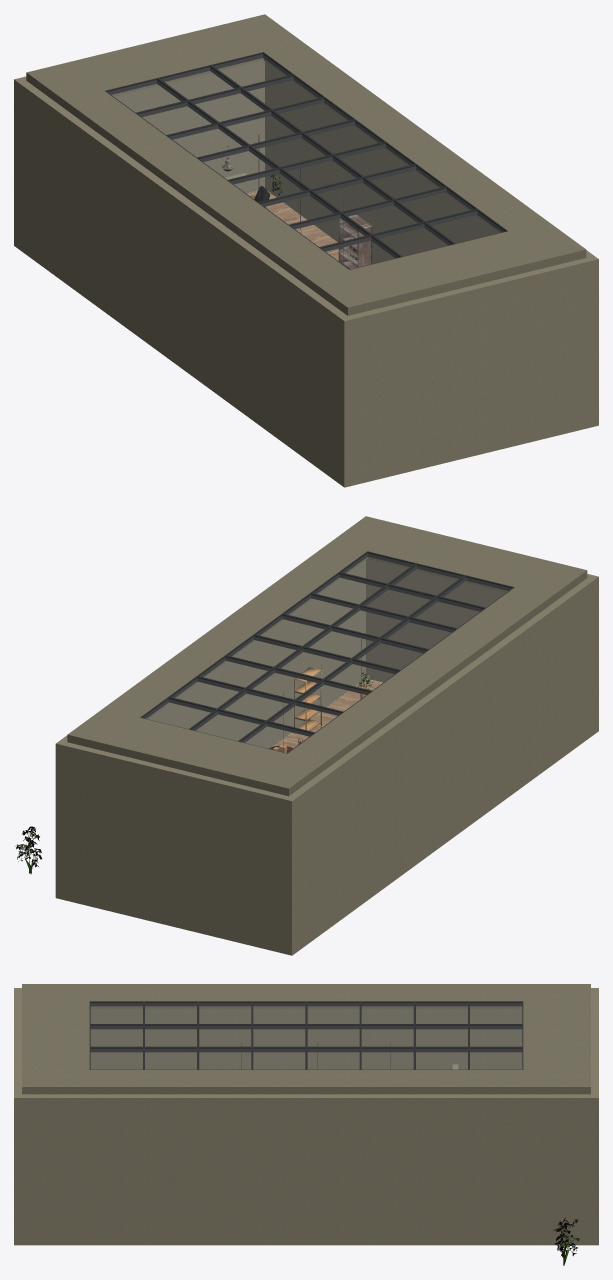
File: atelier.glb
3 views of the same model, one above another, from view 1: azimuth 30°, elevation 25°; view 2: azimuth 150°, elevation 25°; view 3: azimuth 270°, elevation 25° (orthographic). The views are drawn at different scales.
Parts seen in each view (by area): view 1: room_walls, room_ceiling, decor_steel, prop_blog_mesh, room_floor; view 2: room_walls, room_ceiling, decor_steel, room_floor, decor_mesh, decor_plants; view 3: room_walls, room_ceiling, decor_steel, decor_plants.
Boxes of the visible parts, x1,y1,x2,y2 form: room_walls: [14, 60, 598, 487]; room_ceiling: [26, 14, 586, 315]; decor_steel: [105, 52, 507, 269]; prop_blog_mesh: [338, 214, 372, 269]; room_floor: [247, 191, 338, 260]; room_walls: [55, 559, 598, 955]; room_ceiling: [67, 516, 587, 796]; decor_steel: [140, 551, 514, 753]; room_floor: [273, 678, 382, 748]; decor_mesh: [282, 667, 361, 751]; decor_plants: [15, 672, 373, 874]; room_walls: [14, 988, 598, 1245]; room_ceiling: [22, 984, 590, 1094]; decor_steel: [89, 1001, 523, 1069]; decor_plants: [553, 1218, 579, 1265].
Bounding box in the file's own units: 11.92 × 6.4 × 21.59.
Materials: 21 (16 with a texture image).
